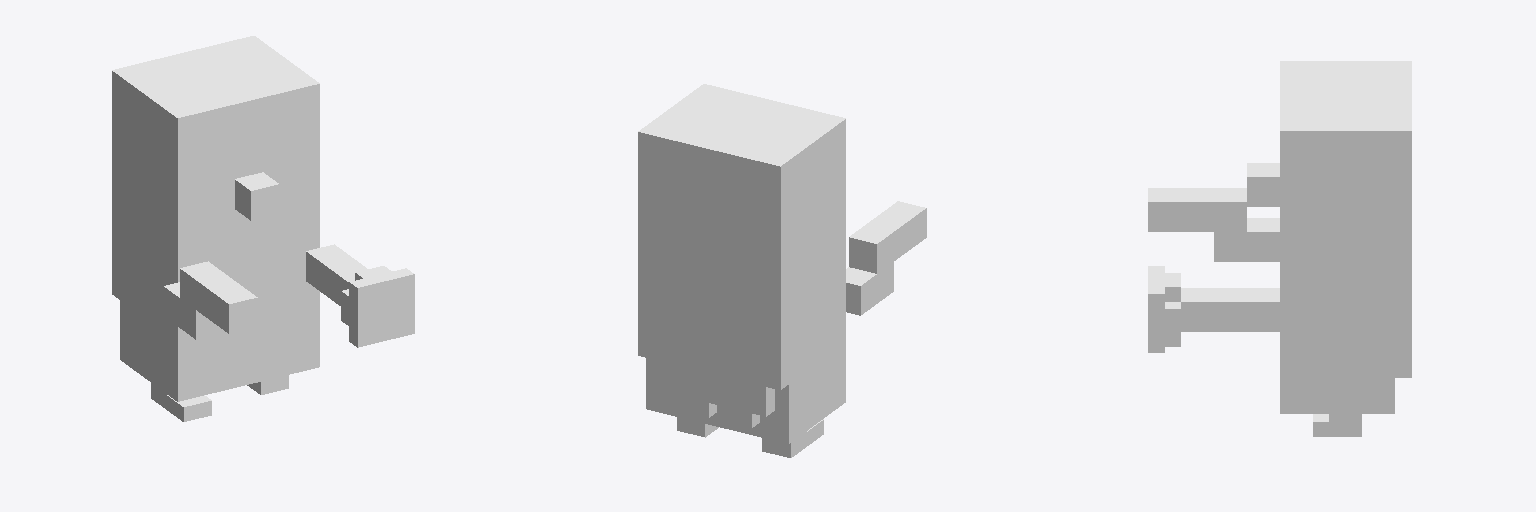
File: player-streaker.obj
The picture shows the model from 3 angles: view 1: azimuth 30°, elevation 25°; view 2: azimuth 150°, elevation 25°; view 3: azimuth 270°, elevation 25°; orthographic projection.
Parts seen in each view (by area): view 1: player:streaker; view 2: player:streaker; view 3: player:streaker.
Boxes of the visible parts, box(x1,y1,x2,y2) form: player:streaker: box(112, 36, 414, 421); player:streaker: box(638, 84, 926, 457); player:streaker: box(1148, 61, 1411, 436).
Bounding box in the file's own units: 13 × 21 × 16.